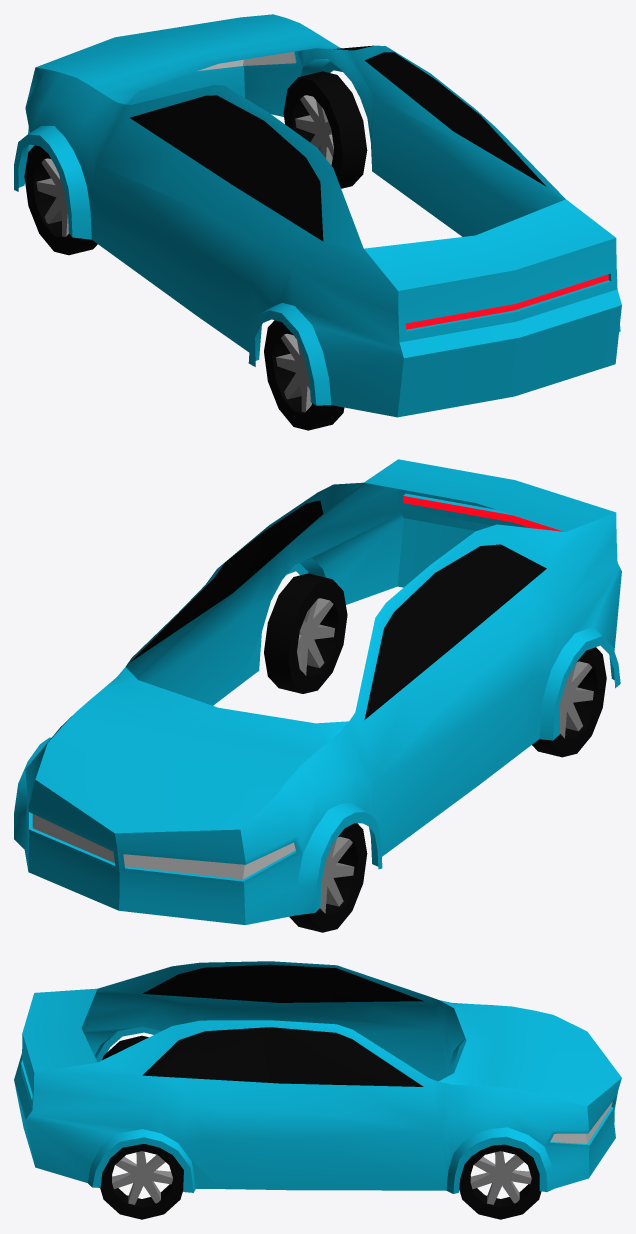
The model's file is Car3.fbx.
3 renders of one model, top to bottom at view 1: azimuth 30°, elevation 25°; view 2: azimuth 150°, elevation 25°; view 3: azimuth 270°, elevation 25°, orthographic. The views are drawn at different scales.
Parts seen in each view (by area): view 1: Plane.003; view 2: Plane.003; view 3: Plane.003.
Part boxes in pixels (x1,y1,x2,y2): Plane.003: (14, 14, 621, 430); Plane.003: (14, 459, 621, 932); Plane.003: (14, 961, 621, 1219).
Size of the model in its own units: 150 by 110 by 341.
